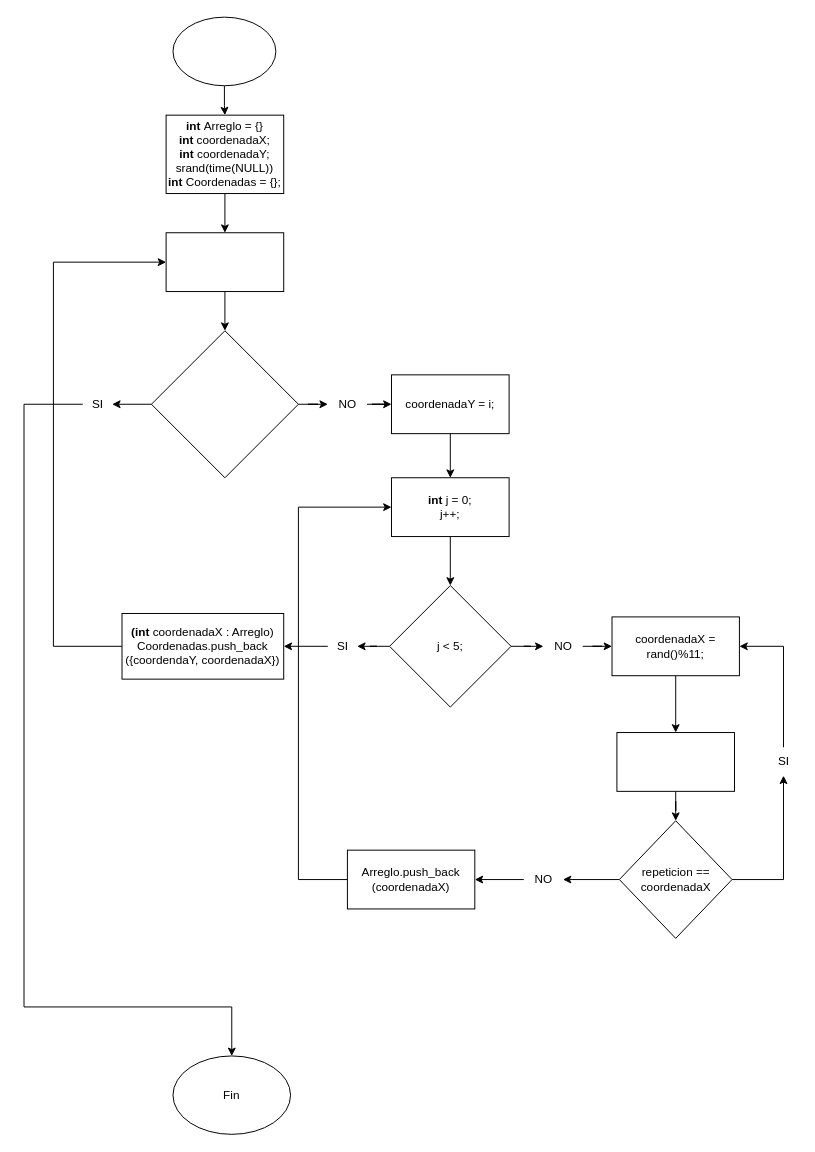
This 815x1152 diagram has some shape labels left out. Here are the shapes that lost their labels. From the top down, the box of each, then its label:
(172, 16, 276, 86): Incio
(165, 232, 284, 292): int i = 0 i++
(150, 330, 298, 478): i < 5
(616, 732, 735, 791): (int repeticion : Arreglo)
